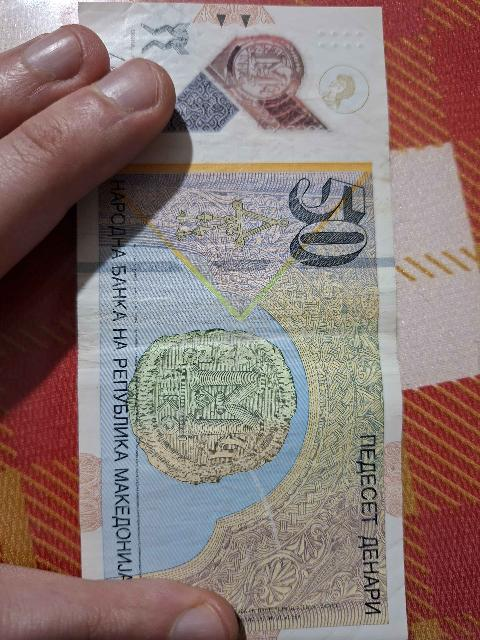50_note: (75, 1, 403, 639)
